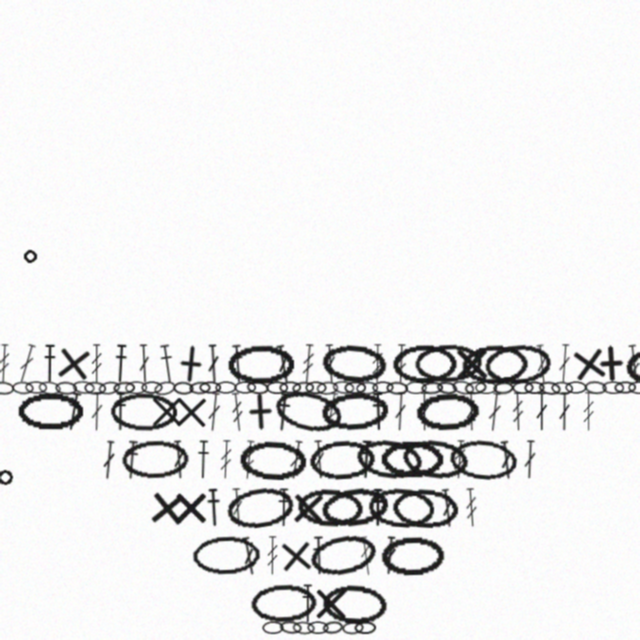chain: (271, 385, 345, 438), (307, 530, 379, 581), (224, 483, 297, 532), (319, 484, 390, 531), (354, 436, 425, 483), (400, 436, 471, 483), (448, 437, 518, 482), (320, 342, 389, 386), (483, 342, 552, 386), (308, 438, 377, 481), (320, 390, 389, 433), (367, 486, 435, 529), (296, 487, 365, 529), (238, 439, 307, 481), (321, 583, 389, 625), (391, 487, 459, 529), (121, 439, 190, 480), (250, 583, 318, 624), (192, 535, 260, 576), (414, 343, 482, 384), (415, 391, 481, 433), (380, 535, 446, 576), (110, 392, 177, 432), (227, 344, 294, 384), (461, 344, 528, 384), (17, 392, 83, 431), (392, 344, 458, 383), (380, 440, 445, 479), (623, 340, 640, 388), (153, 379, 177, 397), (451, 379, 475, 396), (38, 380, 61, 396), (98, 380, 121, 396), (538, 380, 561, 396), (436, 380, 458, 396), (279, 620, 302, 635), (72, 380, 95, 395), (246, 380, 269, 395), (332, 380, 355, 395), (464, 380, 487, 395), (584, 380, 607, 395), (322, 620, 344, 635), (292, 621, 315, 635), (316, 381, 339, 395), (342, 621, 364, 635), (12, 381, 34, 395), (55, 381, 77, 395), (84, 381, 106, 395), (113, 381, 135, 395), (189, 381, 211, 395), (292, 381, 314, 395), (356, 381, 378, 395), (386, 381, 408, 395), (421, 381, 443, 395), (551, 381, 573, 395), (173, 381, 194, 395), (493, 381, 514, 395), (262, 621, 284, 634), (307, 621, 329, 634), (354, 621, 376, 634), (25, 381, 47, 394), (125, 381, 147, 394), (141, 381, 163, 394), (199, 381, 221, 394), (215, 381, 237, 394), (234, 381, 256, 394), (266, 381, 288, 394), (279, 381, 301, 394), (305, 381, 327, 394), (344, 381, 366, 394), (372, 381, 394, 394), (405, 381, 427, 394), (475, 381, 497, 394), (512, 381, 534, 394), (565, 381, 587, 394), (602, 381, 624, 394), (614, 381, 636, 394), (524, 381, 545, 394), (0, 381, 14, 395), (628, 381, 640, 394)
double: (15, 343, 38, 384), (239, 536, 259, 576), (274, 344, 293, 384), (287, 440, 305, 480), (439, 488, 456, 528), (498, 440, 515, 480), (486, 392, 503, 432), (101, 440, 117, 480), (206, 392, 222, 432), (534, 344, 550, 384), (382, 536, 398, 575), (171, 440, 187, 479), (230, 488, 245, 527), (312, 440, 327, 479), (393, 392, 408, 431), (206, 344, 221, 383), (323, 344, 338, 383), (557, 344, 572, 383), (523, 440, 537, 479), (90, 392, 104, 431), (137, 344, 151, 383), (418, 392, 431, 431), (465, 392, 478, 431), (535, 392, 548, 431), (558, 392, 571, 431)
half_double: (63, 391, 84, 432), (157, 344, 177, 384), (274, 392, 293, 432), (123, 440, 141, 480), (229, 344, 246, 384), (205, 488, 222, 527), (112, 344, 129, 383), (311, 536, 327, 575), (195, 440, 211, 479), (358, 440, 374, 479), (370, 392, 386, 431), (300, 584, 315, 623), (276, 488, 291, 527), (370, 488, 385, 527), (113, 392, 128, 431), (42, 344, 57, 383)
noise: (0, 468, 15, 487), (23, 249, 38, 264)
single: (567, 342, 611, 386), (52, 342, 95, 385), (275, 535, 317, 577), (146, 487, 188, 529), (170, 343, 212, 385), (240, 391, 281, 432), (591, 343, 632, 384), (288, 488, 328, 528), (171, 392, 211, 432), (311, 584, 350, 623), (171, 488, 210, 527), (147, 392, 186, 431), (452, 344, 491, 383)
treble: (321, 392, 341, 432), (357, 536, 375, 576), (229, 392, 246, 432), (241, 440, 257, 480), (300, 344, 316, 383), (464, 488, 479, 527), (452, 440, 467, 479), (626, 344, 640, 384), (219, 440, 233, 479), (511, 392, 525, 431), (394, 344, 408, 383), (266, 536, 279, 575), (582, 392, 595, 431), (90, 344, 103, 383), (371, 344, 384, 383), (0, 344, 11, 383)
